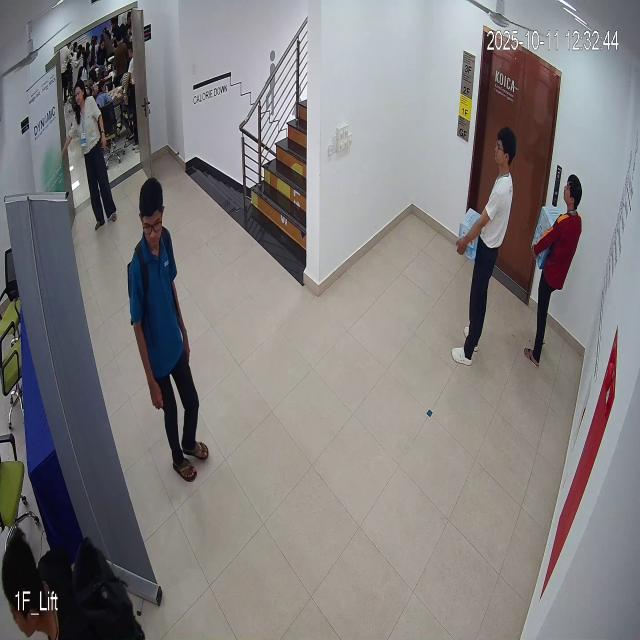face: (134, 170, 170, 258)
